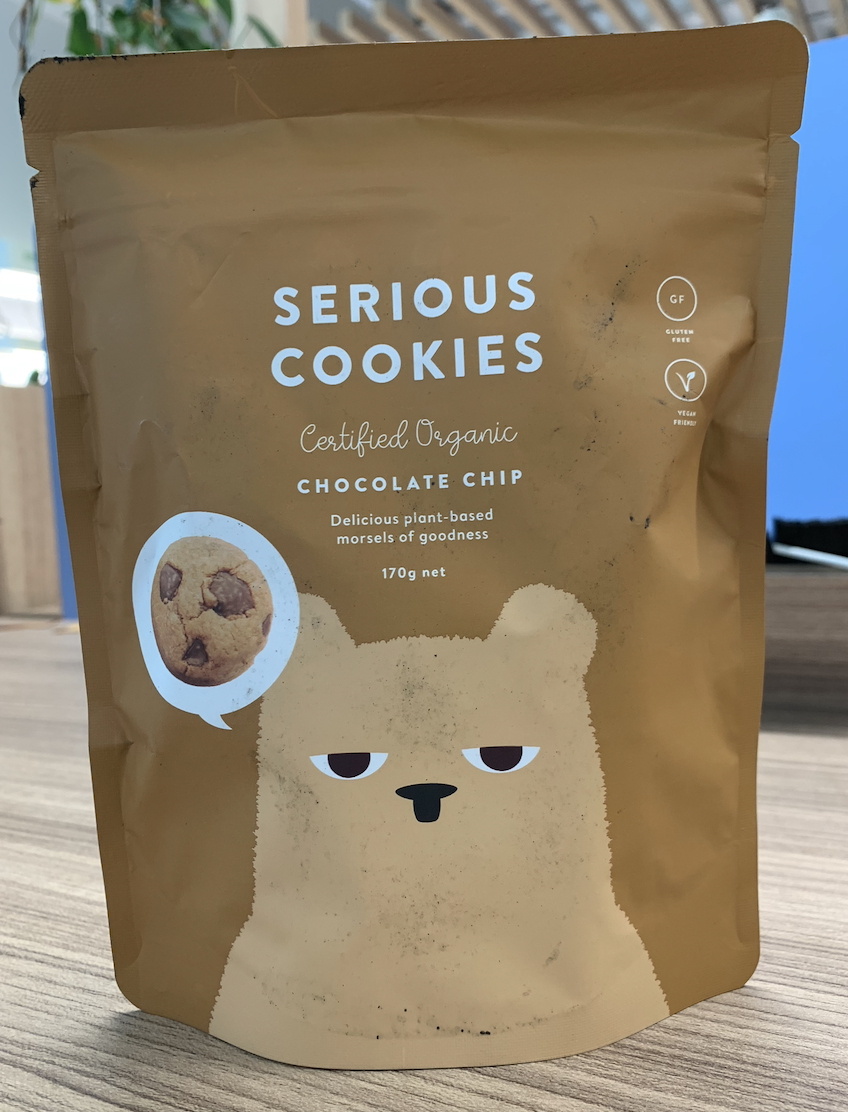cookies_100g-199g: (128, 145, 735, 964)
